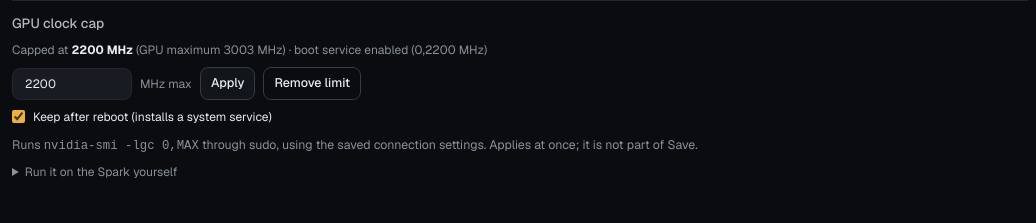
GpuClockSection › resets the inputs from the unit after removing the limit
Expected: the number field with id "gpu-clock-max" holds "2200", [12, 68, 132, 100]
Click the button "Remove limit" at (312, 84), box [263, 67, 361, 100]
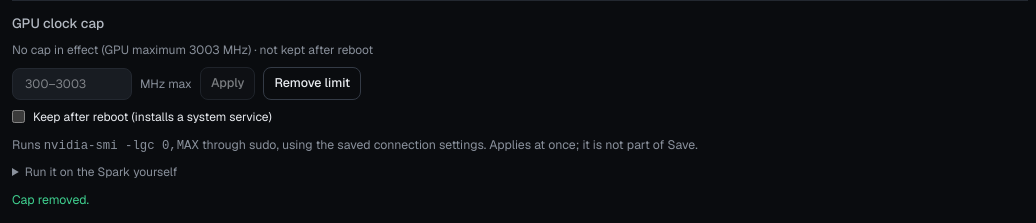
Expected: the number field with id "gpu-clock-max" is empty, [12, 68, 132, 100]
Expected: the checkbox labelled "Keep after reboot (installs a system service)" is not checked, [12, 110, 25, 123]
